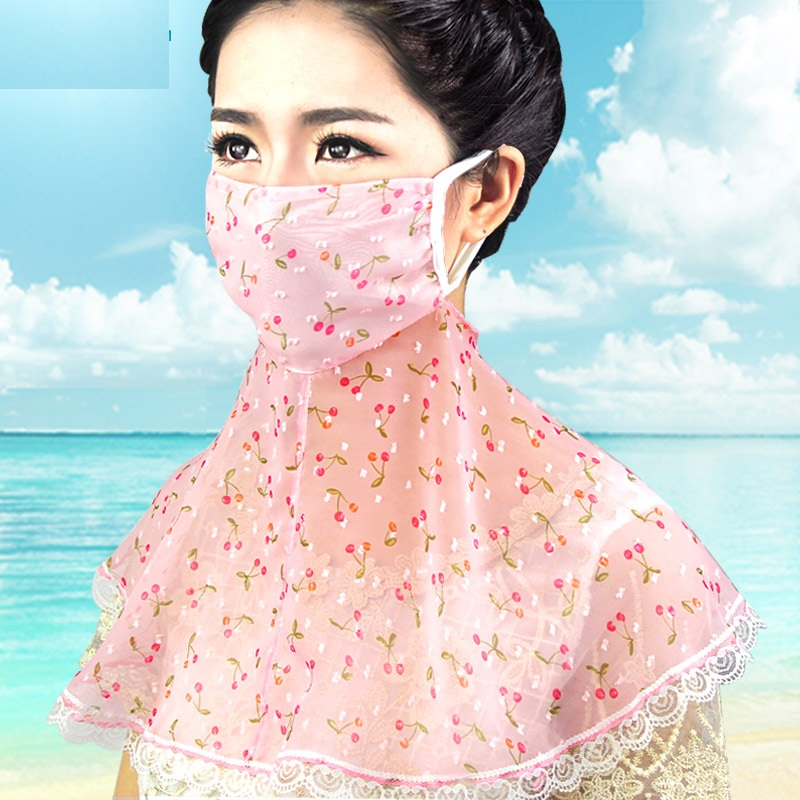face_mask: (208, 0, 457, 357)
